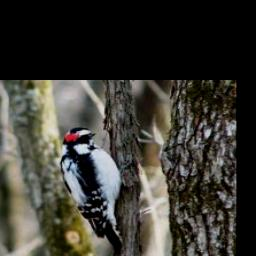Woodpecker: (56, 127, 132, 256)
